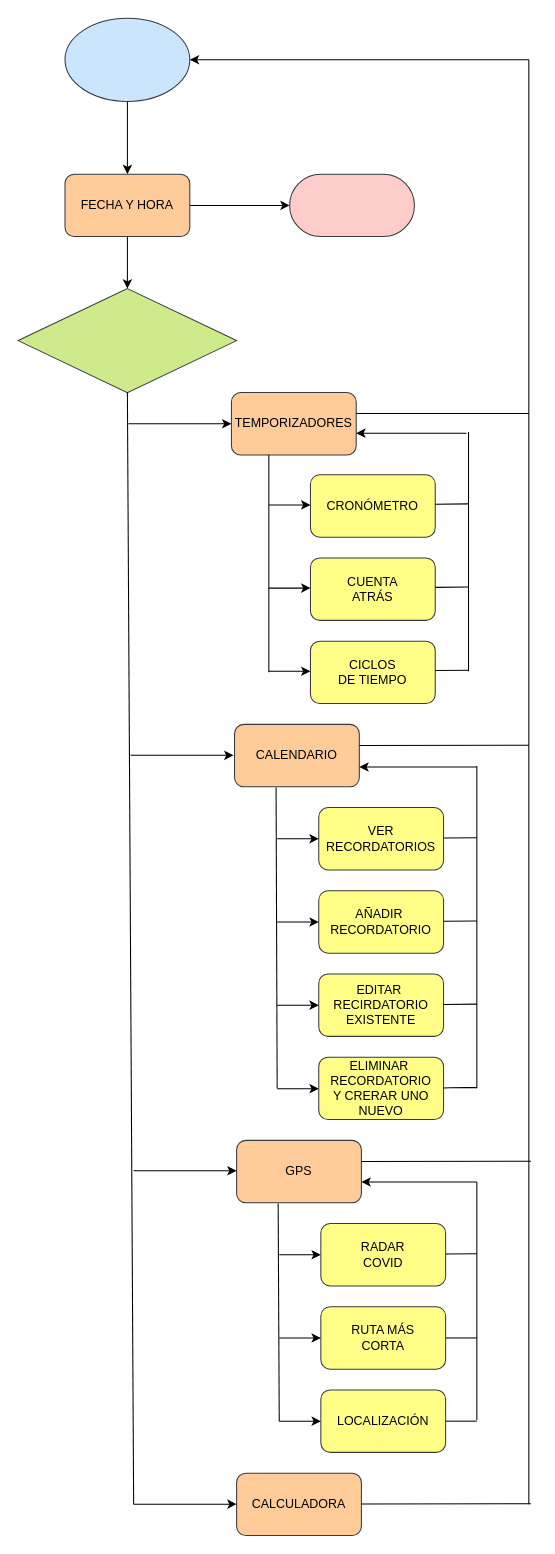
Some shapes in this 555 by 1554 pixel diagram are drawn without their labels. Each missing label, with the centre of its shape:
"FIN" goes at point 351,205.
"INICIO" goes at point 127,59.
"¿OTRA FUNCIÓN?" goes at point 127,340.
